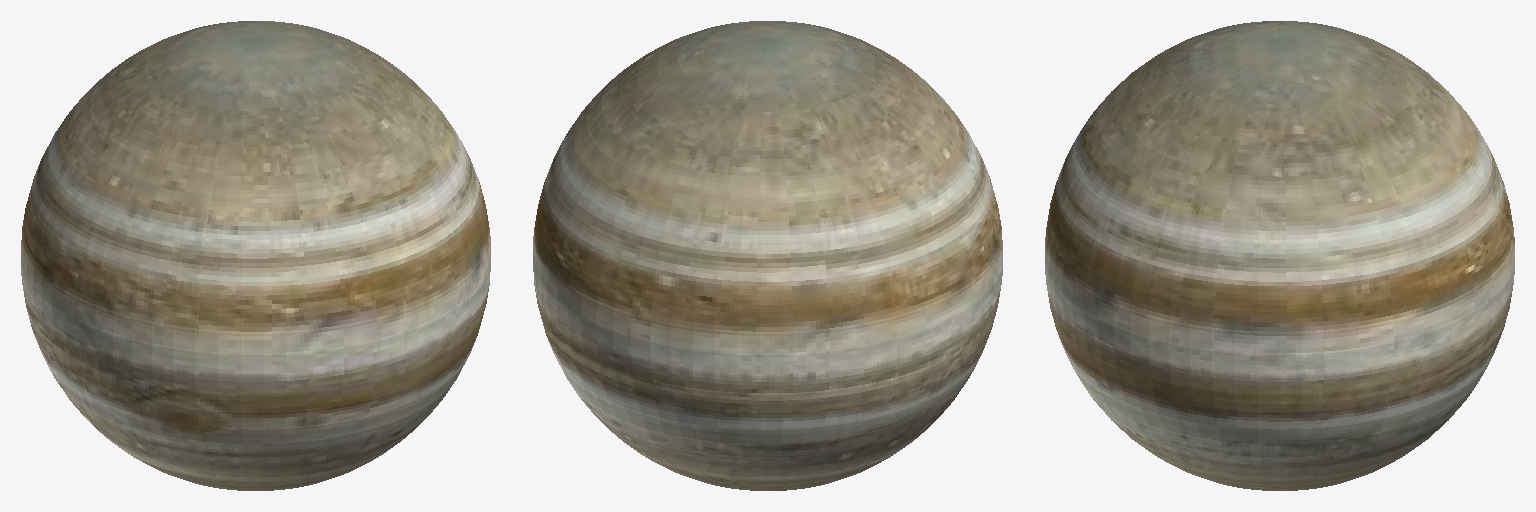
The picture shows the model from 3 angles: view 1: azimuth 30°, elevation 25°; view 2: azimuth 150°, elevation 25°; view 3: azimuth 270°, elevation 25°; orthographic projection.
Parts seen in each view (by area): view 1: Sphere001; view 2: Sphere001; view 3: Sphere001.
Part boxes in pixels (bbox=[...]): Sphere001: bbox=[21, 21, 490, 490]; Sphere001: bbox=[533, 21, 1002, 490]; Sphere001: bbox=[1045, 21, 1514, 490].
Bounding box in the file's own units: 112 × 112 × 112.
Materials: 1 (1 with a texture image).